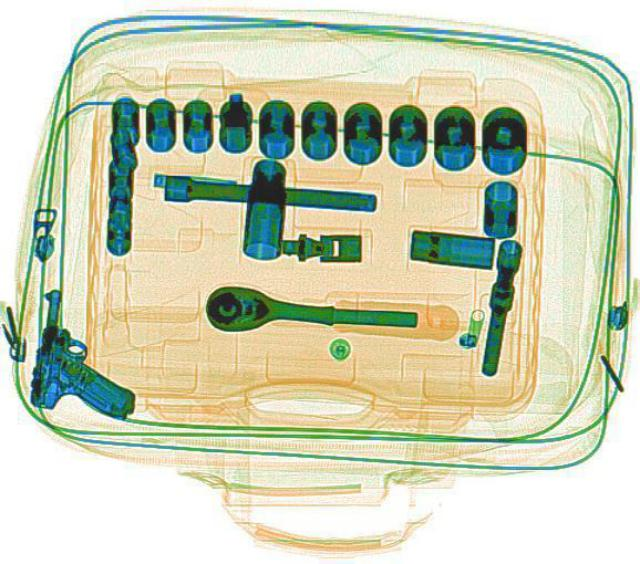Gun: (25, 286, 147, 420)
